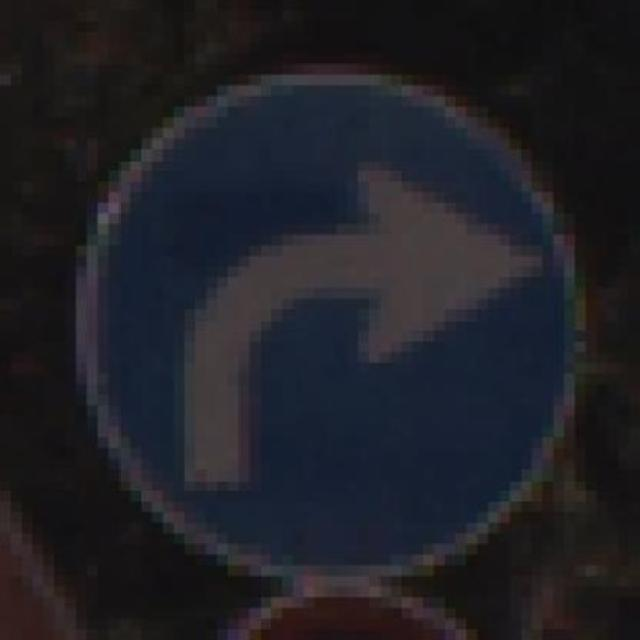Turn right ahead: (75, 64, 597, 587)
